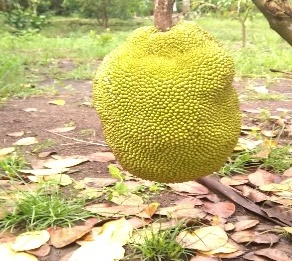Mit: (92, 22, 241, 181)
